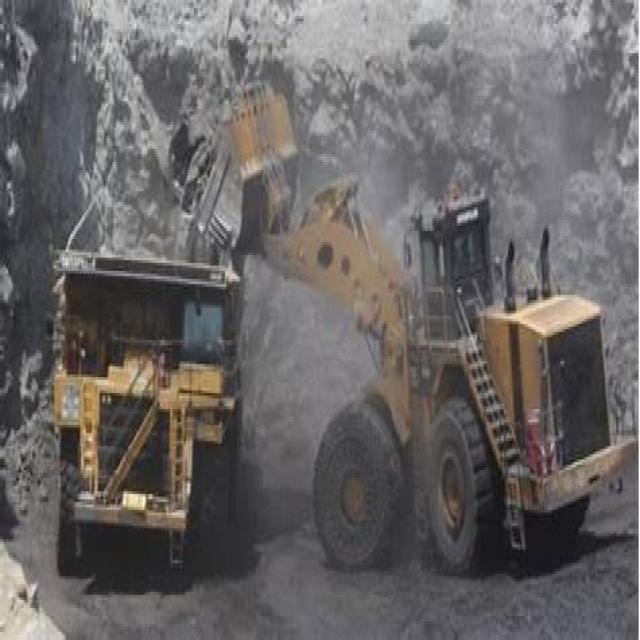buldozerpayloadergrader: (186, 69, 633, 590)
dump_truck: (30, 231, 244, 608)
